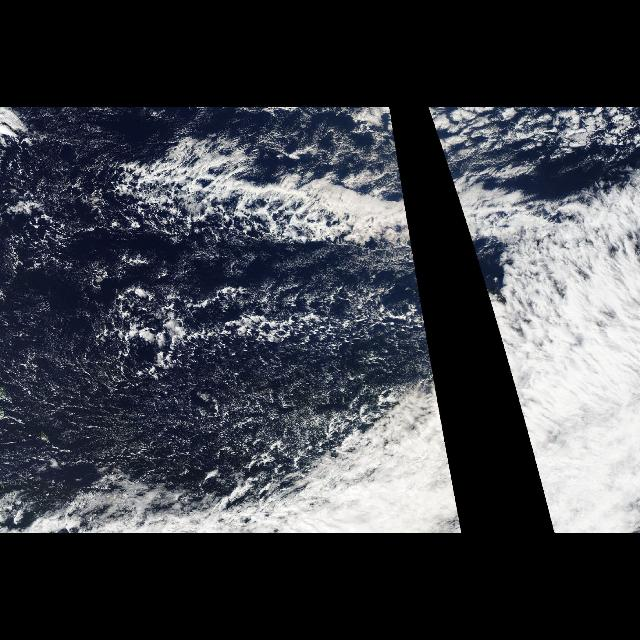Fish: (31, 111, 419, 271), (428, 111, 530, 271)
Gravel: (70, 254, 432, 380)
Sugar: (16, 378, 354, 480)
